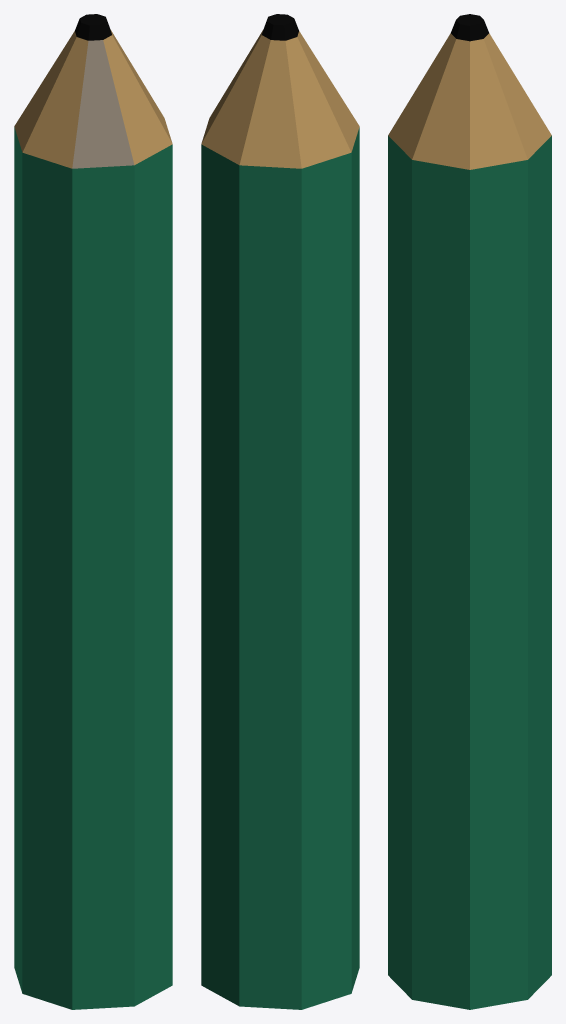
File: Pencil.fbx
3 views of the same model, side by side, from view 1: azimuth 30°, elevation 25°; view 2: azimuth 150°, elevation 25°; view 3: azimuth 270°, elevation 25° (orthographic).
Visible parts, largest first — view 1: Cylinder; view 2: Cylinder; view 3: Cylinder.
Part boxes in pixels (<box>): Cylinder: <box>14,14,172,1009</box>; Cylinder: <box>201,14,359,1009</box>; Cylinder: <box>388,14,551,1009</box>.
Bounding box in the file's own units: 200 × 1289 × 200.
